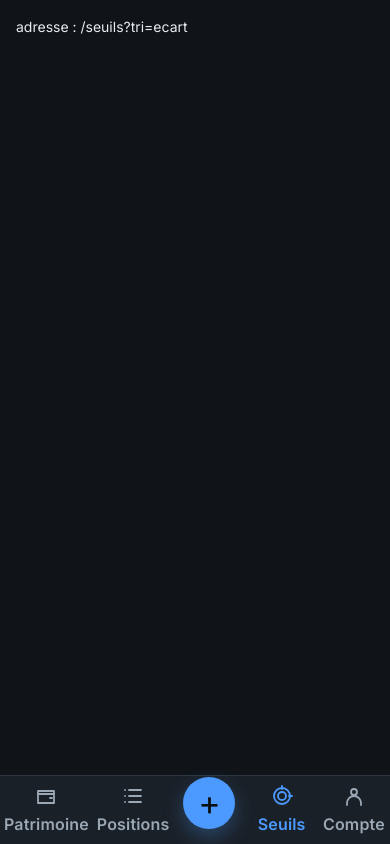
Test case: bouton de saisie de la barre mobile › ouvre la saisie sans quitter l’écran des seuils
Click the button named "Nouveau mouvement" at {"x": 210, "y": 803}, box x1=184 y1=777 x2=236 y2=829
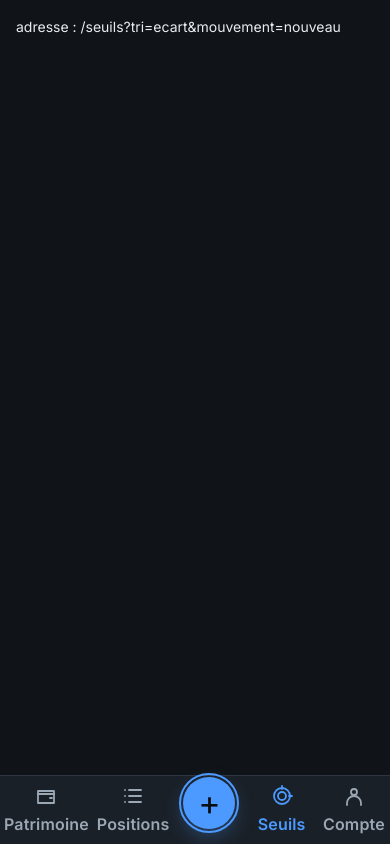
Expected: the text "adresse : /seuils?tri=ecart&mouvement=nouveau" is shown, x1=16 y1=16 x2=374 y2=37
